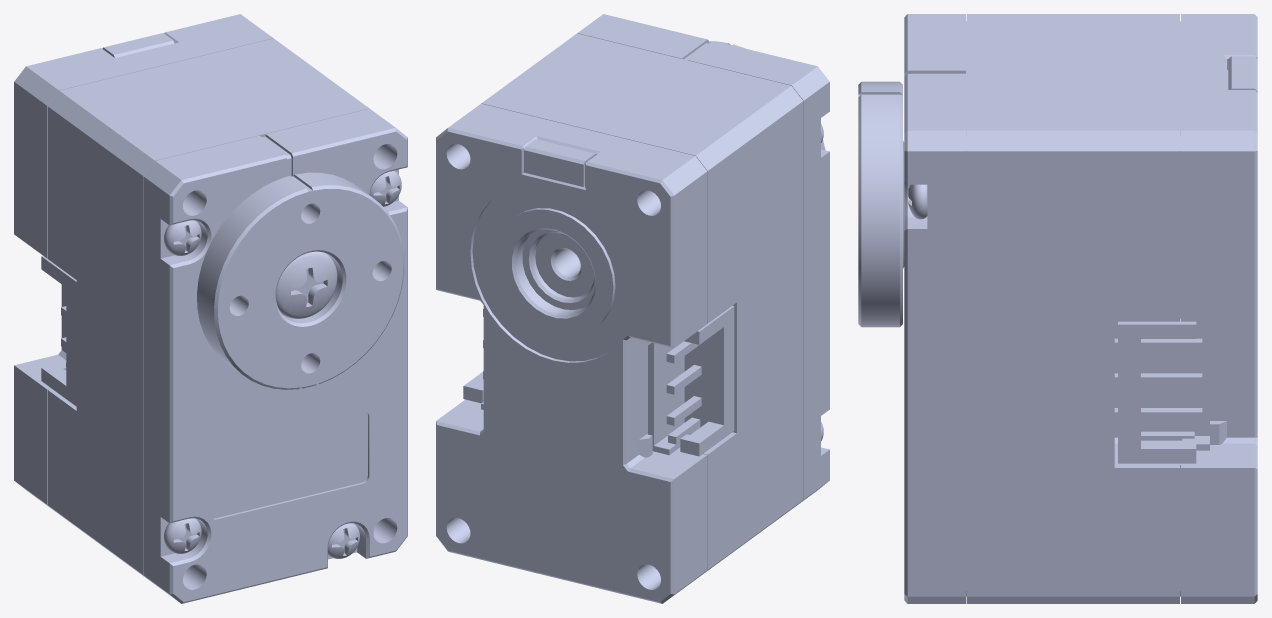
3 renders of one model, left to right at view 1: azimuth 30°, elevation 25°; view 2: azimuth 150°, elevation 25°; view 3: azimuth 270°, elevation 25°, orthographic. The views are drawn at different scales.
Visible parts, largest first — view 1: node0; view 2: node0; view 3: node0.
Boxes of the visible parts, <box> form: node0: <box>14,14,407,603</box>; node0: <box>436,14,829,603</box>; node0: <box>858,14,1257,603</box>.
Size of the model in its own units: 0.02 by 0.034 by 0.026.
